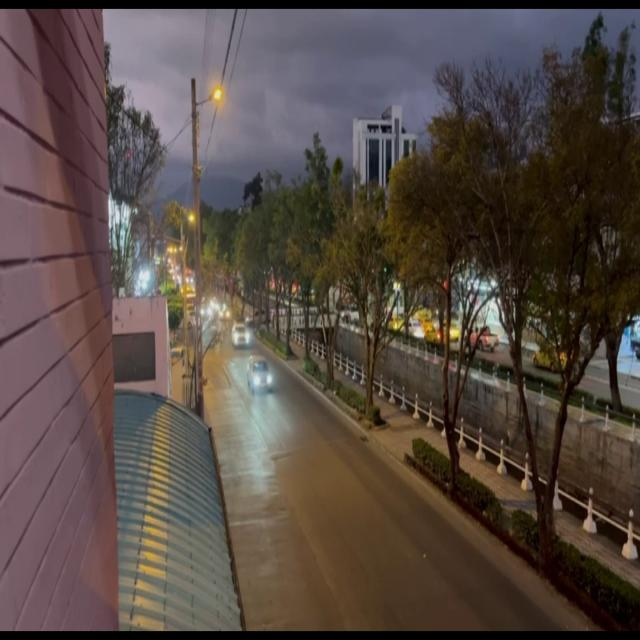SUV: (248, 358, 271, 390), (233, 323, 249, 348)
